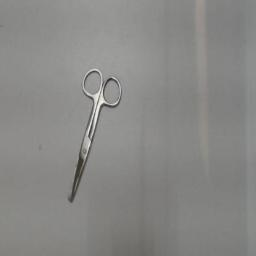Dressing Scissors: (64, 62, 128, 212)
